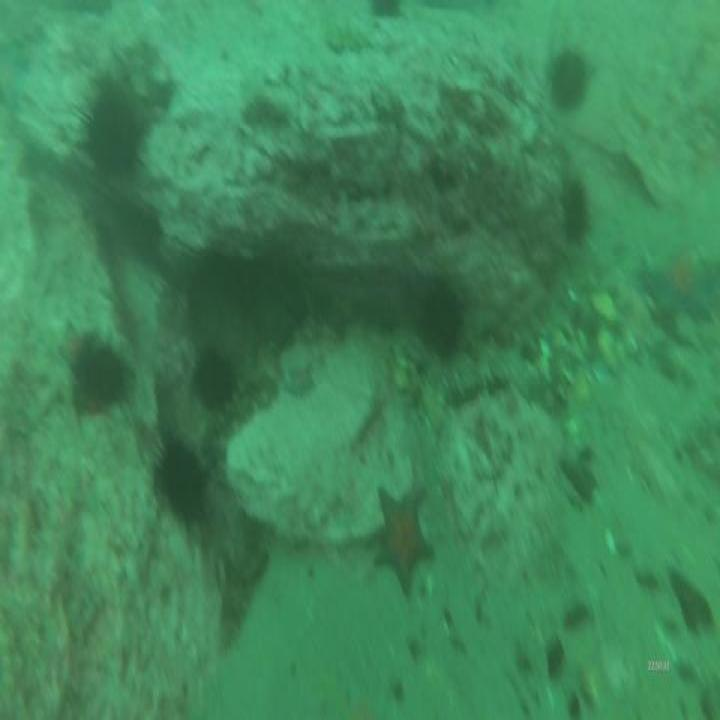echinus: (71, 76, 150, 192), (149, 432, 213, 533), (69, 332, 138, 416), (412, 272, 468, 366), (187, 343, 243, 413), (542, 44, 594, 118), (556, 169, 593, 249), (368, 0, 405, 21)
holothurian: (215, 512, 269, 665), (210, 366, 277, 443)
starfish: (371, 480, 438, 606), (637, 249, 720, 331), (55, 313, 88, 384), (282, 359, 319, 402)
